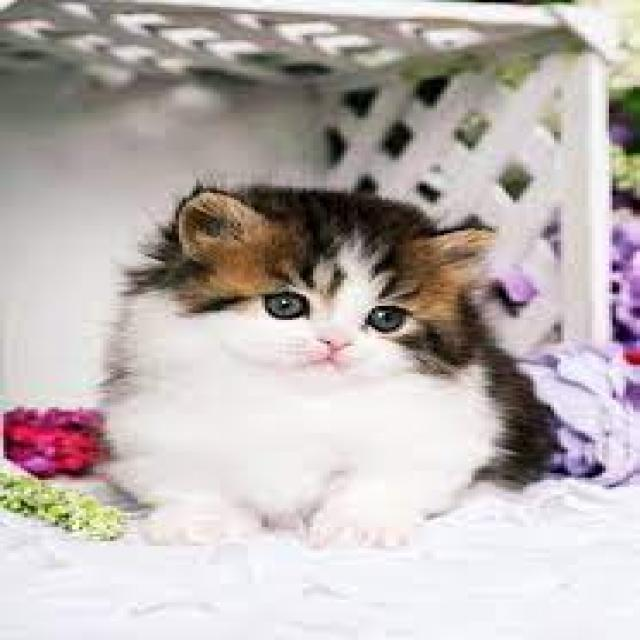Cat: (96, 168, 566, 556)
